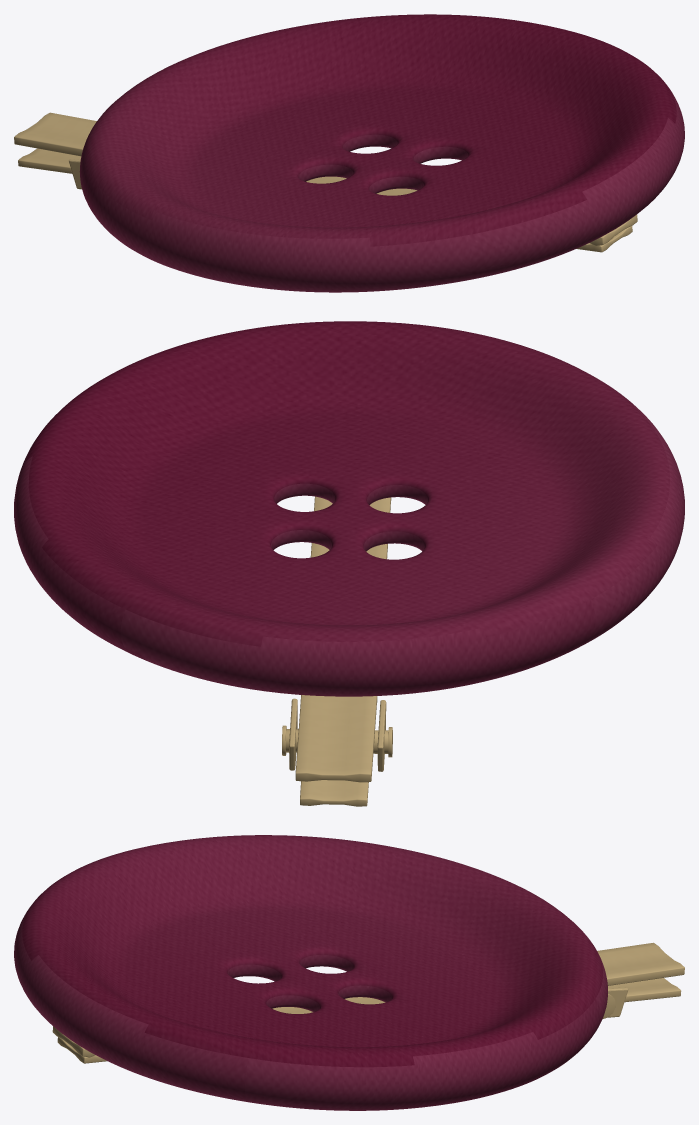
The model's file is HairClip_Velvet.glb.
3 views of the same model, one above another, from view 1: azimuth 30°, elevation 25°; view 2: azimuth 150°, elevation 25°; view 3: azimuth 270°, elevation 25° (orthographic). The views are drawn at different scales.
Visible parts, largest first — view 1: HairClip_Velvet__Pink_Four_Hole_Button, HairClip_Velvet__Fixed_Serrated_Jaw, HairClip_Velvet__Moving_Jaw_Static_Pose; view 2: HairClip_Velvet__Pink_Four_Hole_Button, HairClip_Velvet__Fixed_Serrated_Jaw, HairClip_Velvet__Moving_Jaw_Static_Pose; view 3: HairClip_Velvet__Pink_Four_Hole_Button, HairClip_Velvet__Fixed_Serrated_Jaw, HairClip_Velvet__Moving_Jaw_Static_Pose.
Boxes of the visible parts, x1=… form: HairClip_Velvet__Pink_Four_Hole_Button: x1=79, y1=14, x2=684, y2=292; HairClip_Velvet__Fixed_Serrated_Jaw: x1=14, y1=112, x2=637, y2=245; HairClip_Velvet__Moving_Jaw_Static_Pose: x1=18, y1=148, x2=632, y2=252; HairClip_Velvet__Pink_Four_Hole_Button: x1=14, y1=321, x2=684, y2=696; HairClip_Velvet__Fixed_Serrated_Jaw: x1=295, y1=496, x2=391, y2=782; HairClip_Velvet__Moving_Jaw_Static_Pose: x1=300, y1=780, x2=368, y2=806; HairClip_Velvet__Pink_Four_Hole_Button: x1=14, y1=835, x2=607, y2=1110; HairClip_Velvet__Fixed_Serrated_Jaw: x1=52, y1=942, x2=684, y2=1057; HairClip_Velvet__Moving_Jaw_Static_Pose: x1=57, y1=978, x2=681, y2=1063.
Size of the model in its own units: 39.87 by 10.65 by 44.94.
2 materials, 2 textured.
